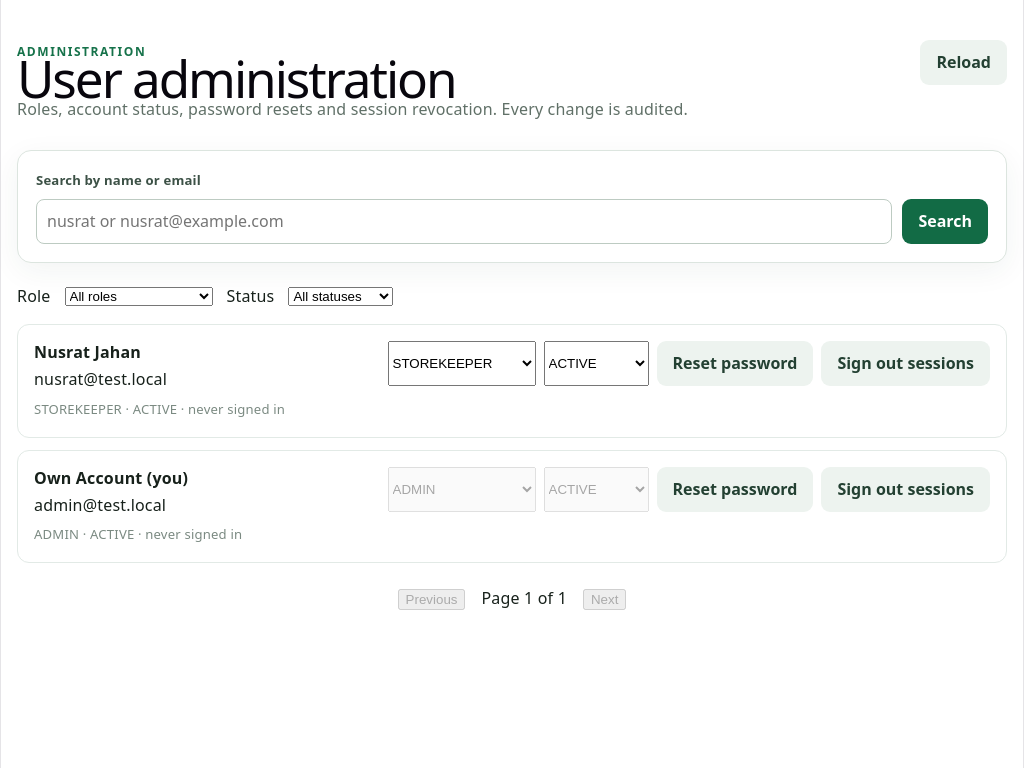
Test: UserAdministration › surfaces a rejected change from the server
Check: the text "nusrat@test.local" is shown, box [34,368,167,390]
Select "ADMIN" in the 1st dropdown named "Role for nusrat@test.local" at (462, 364), box [388,341,536,386]
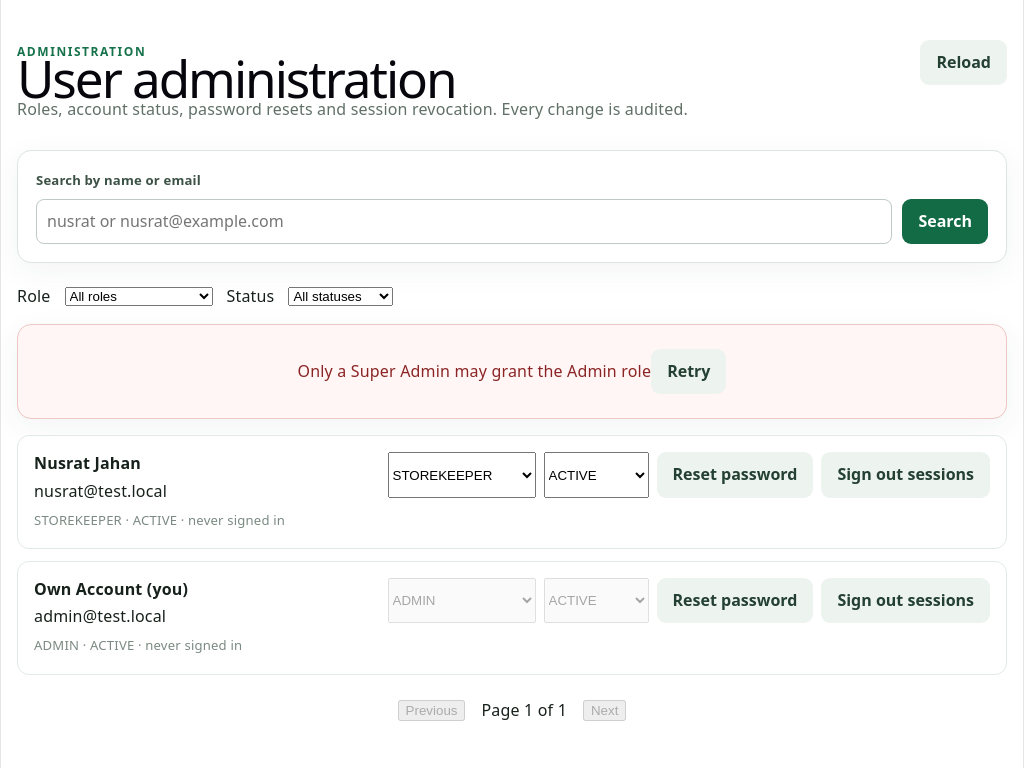
Check: the text "Only a Super Admin may grant the Admin role" is shown, box [298,360,651,382]
